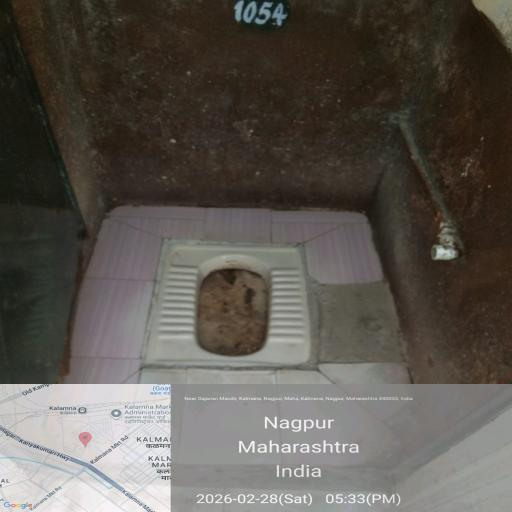clean_floor: (4, 370, 405, 473)
dirty_indian: (119, 223, 354, 405)
partial_dirty_floor: (6, 19, 454, 214)
